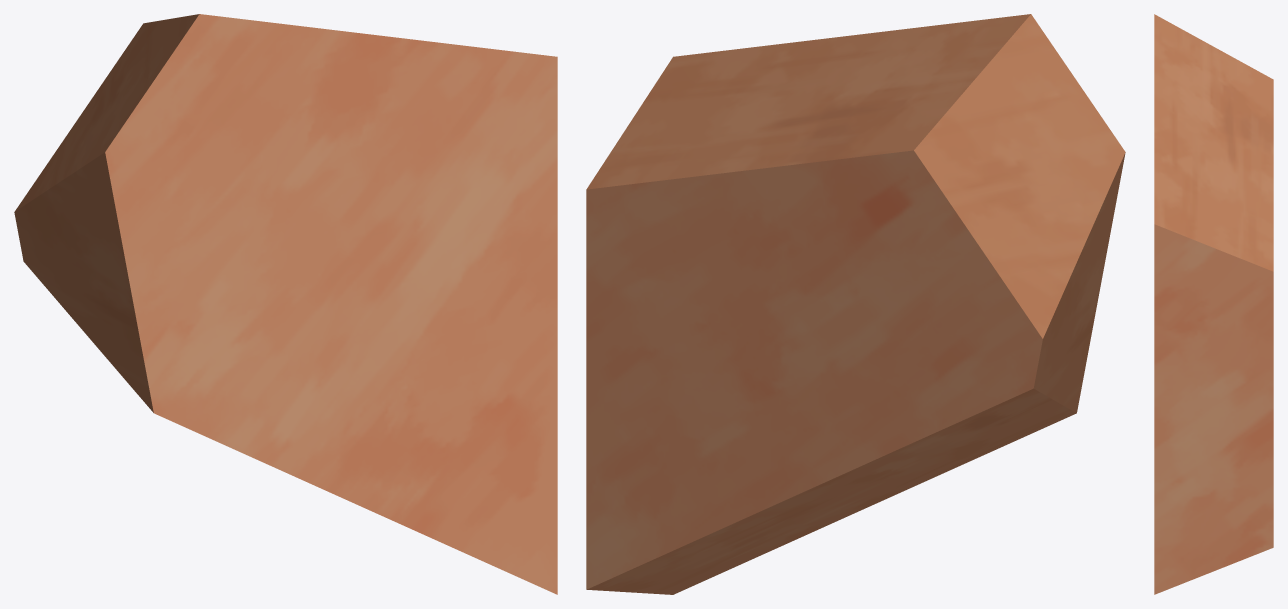
The model's file is wall_upper_s05.fbx.
The picture shows the model from 3 angles, left to right: view 1: azimuth 30°, elevation 25°; view 2: azimuth 150°, elevation 25°; view 3: azimuth 270°, elevation 25°; orthographic projection. The views are drawn at different scales.
Parts seen in each view (by area): view 1: wall_upper_s05; view 2: wall_upper_s05; view 3: wall_upper_s05.
Part boxes in pixels (x1=…): wall_upper_s05: x1=14, y1=14, x2=557, y2=594; wall_upper_s05: x1=586, y1=14, x2=1125, y2=594; wall_upper_s05: x1=1154, y1=14, x2=1273, y2=594.
Size of the model in its own units: 3.04 by 4.25 by 1.
